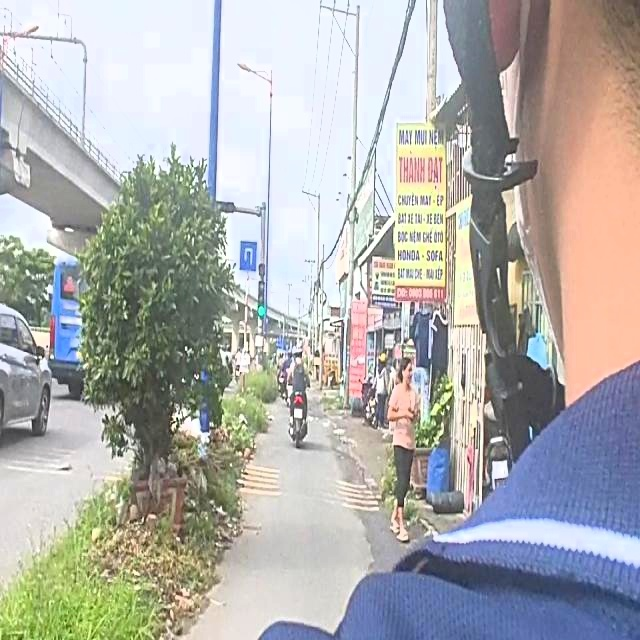I.409: (239, 237, 259, 273)
